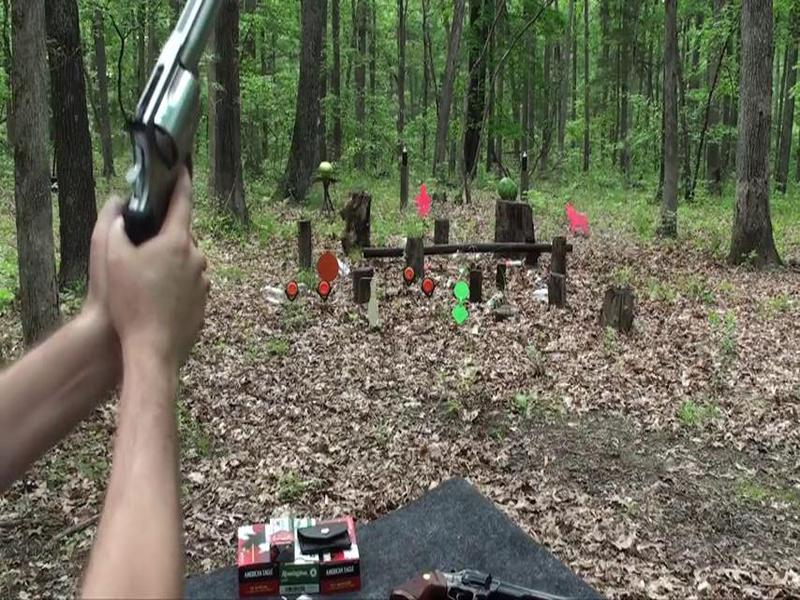Revolver: (70, 1, 225, 266)
